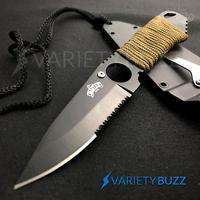knife: (10, 13, 182, 195)
